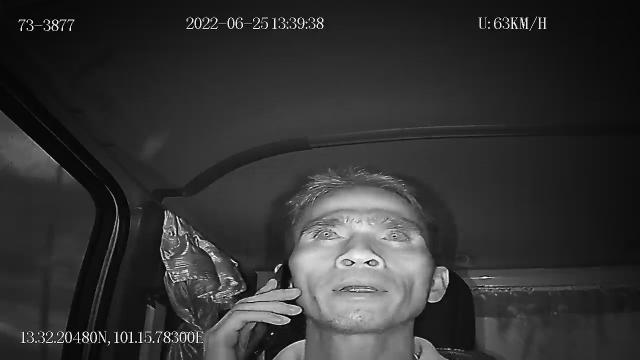PhoneUse: (244, 262, 294, 360)
SafeDriving: (374, 222, 418, 248), (306, 220, 348, 247)
